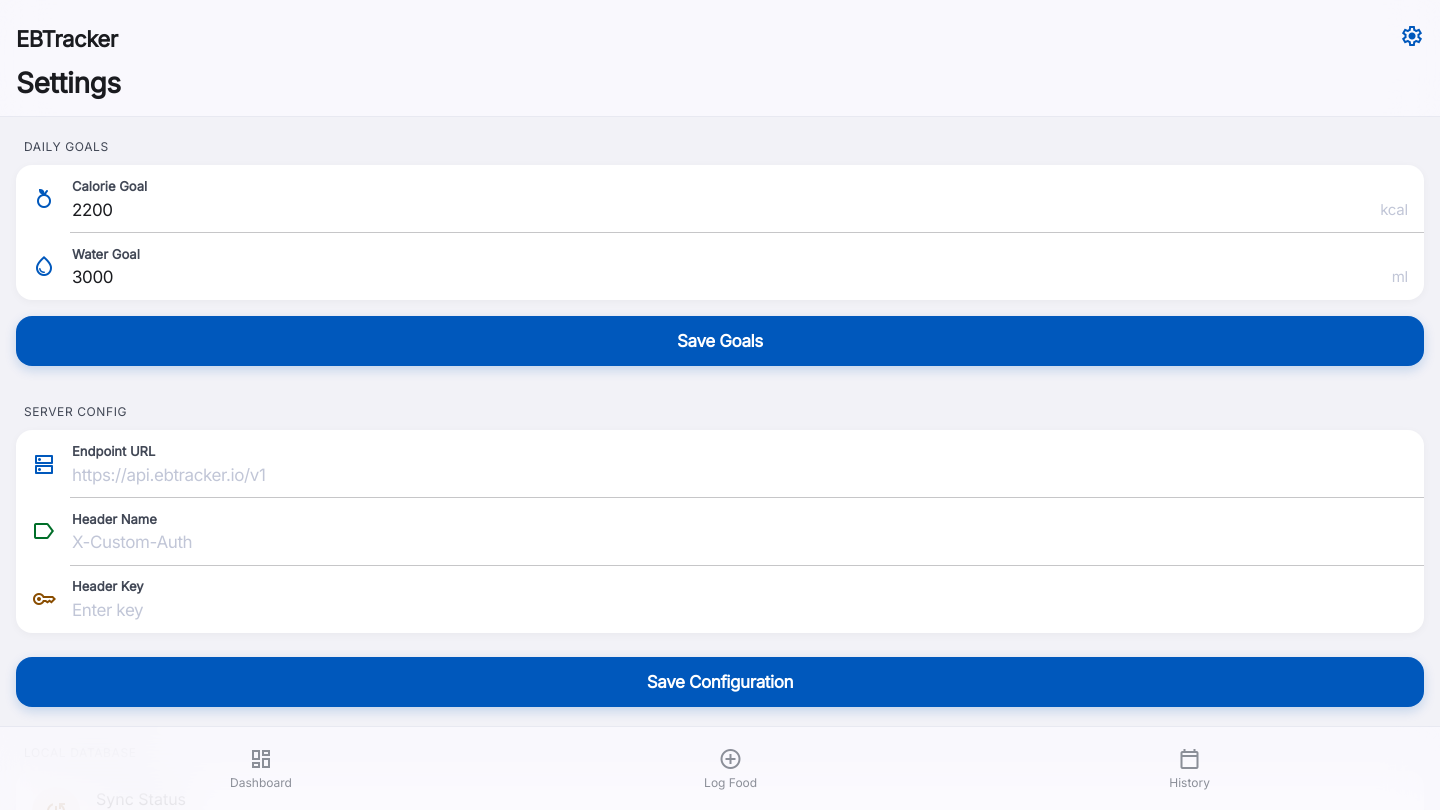
Test: Settings Component › allows updating server config inputs and saving them
The width and height of the screenshot is (1440, 810).
In the field labelled "Endpoint URL": (740, 474) [72,464,1408,486], type "https://test-api.io/v1"
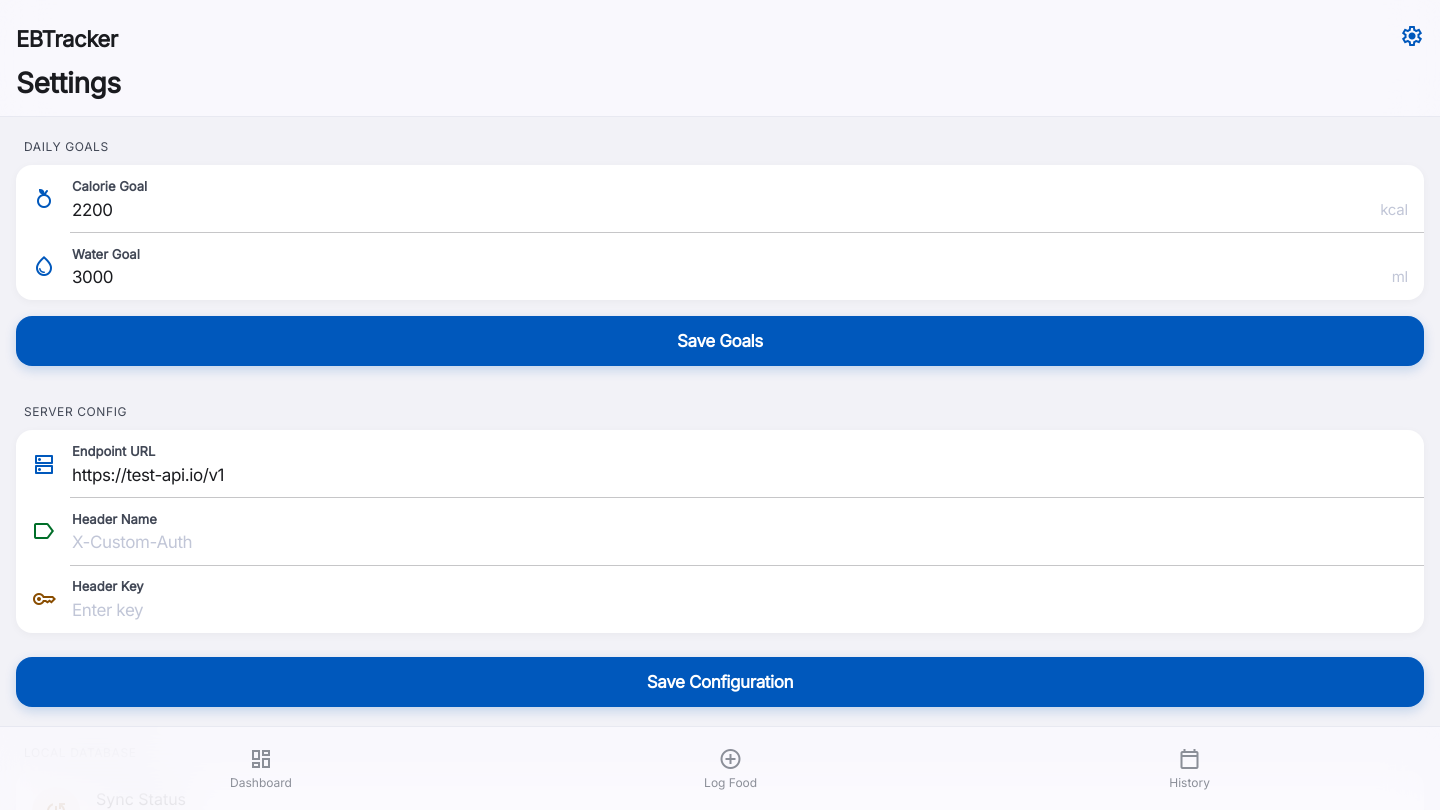
In the field labelled "Header Name": (740, 542) [72,531,1408,553], type "X-Auth-Token"
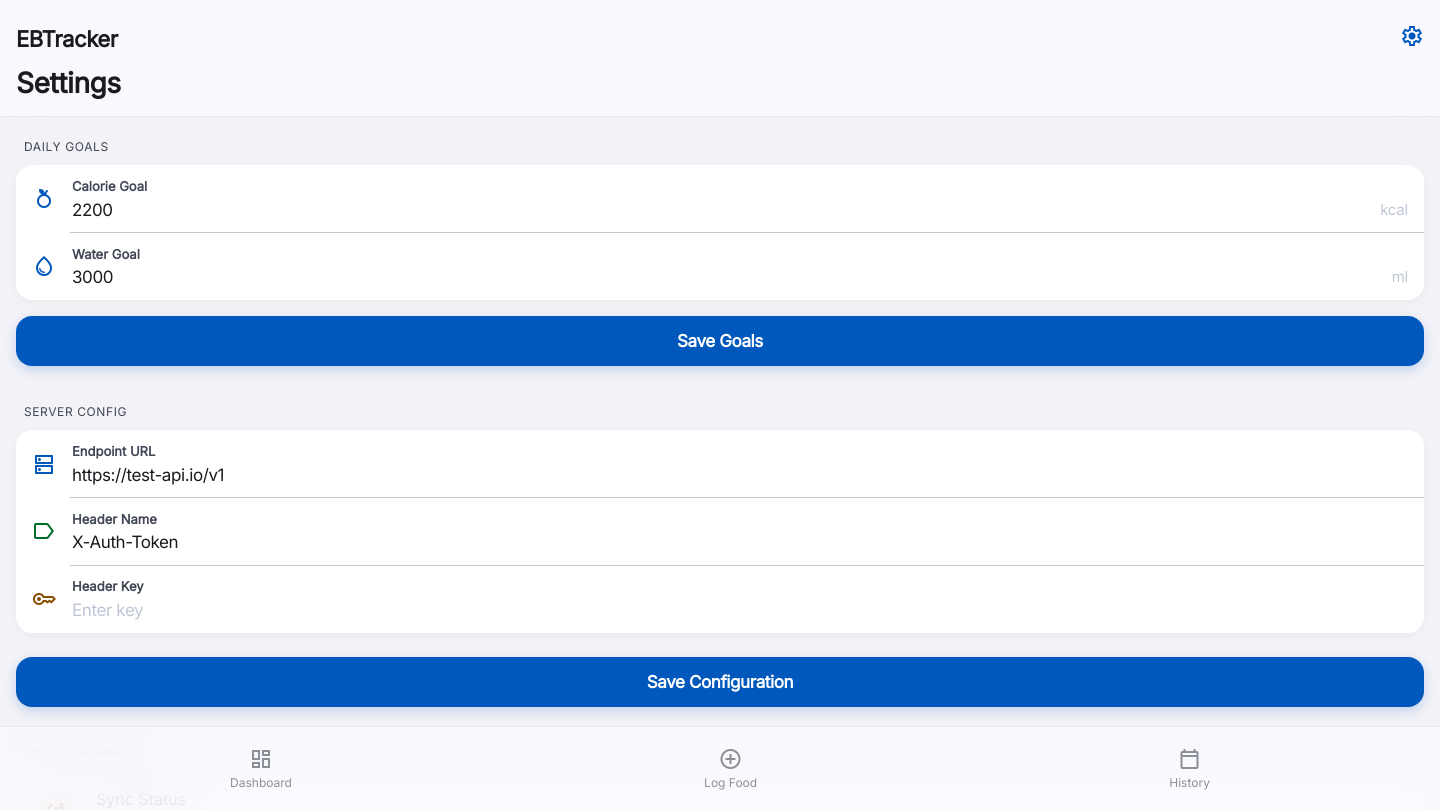
In the password field labelled "Header Key": (740, 610) [72,598,1408,620], type "secret123"
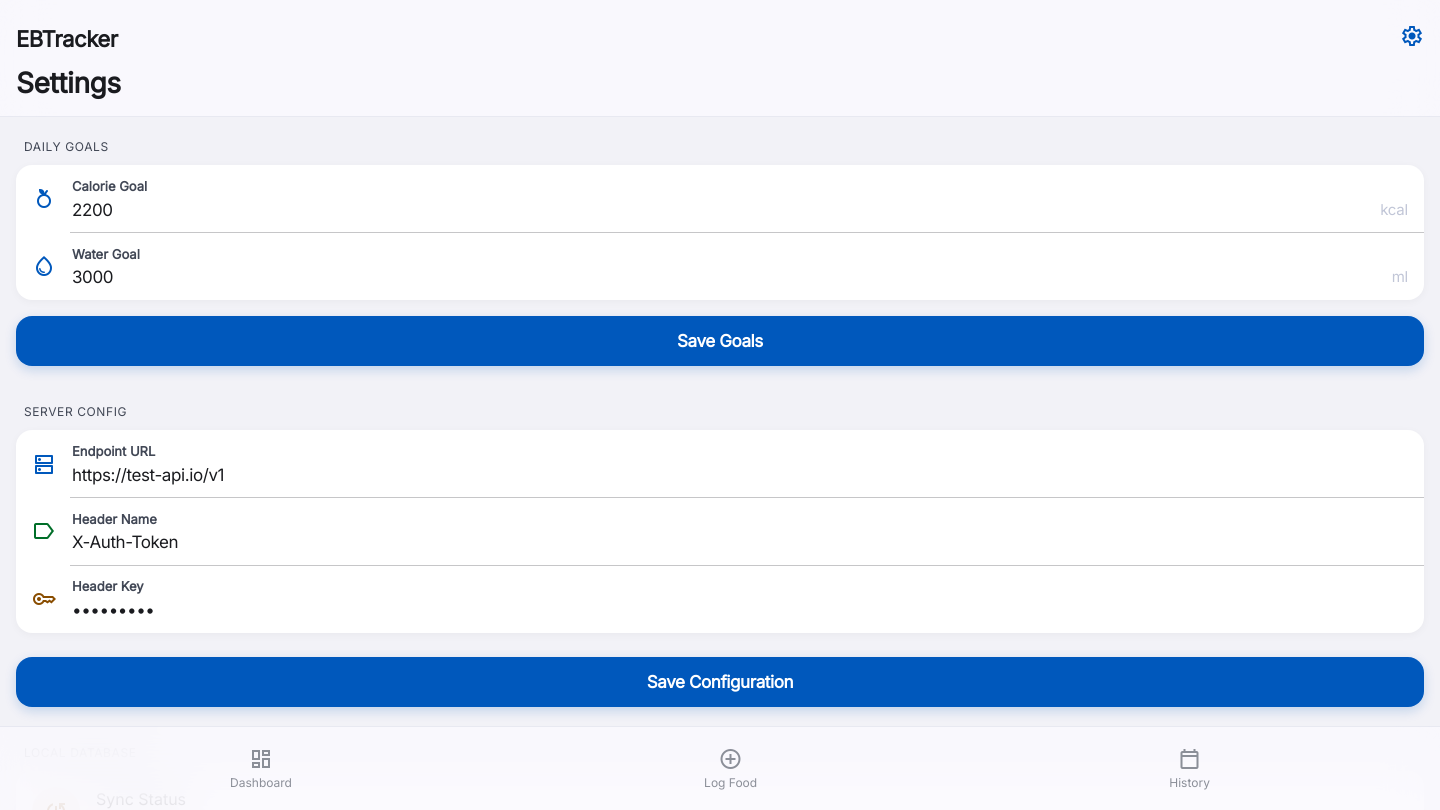
Click Save Configuration
Click the button "Save Configuration": (720, 682) [16,656,1424,706]
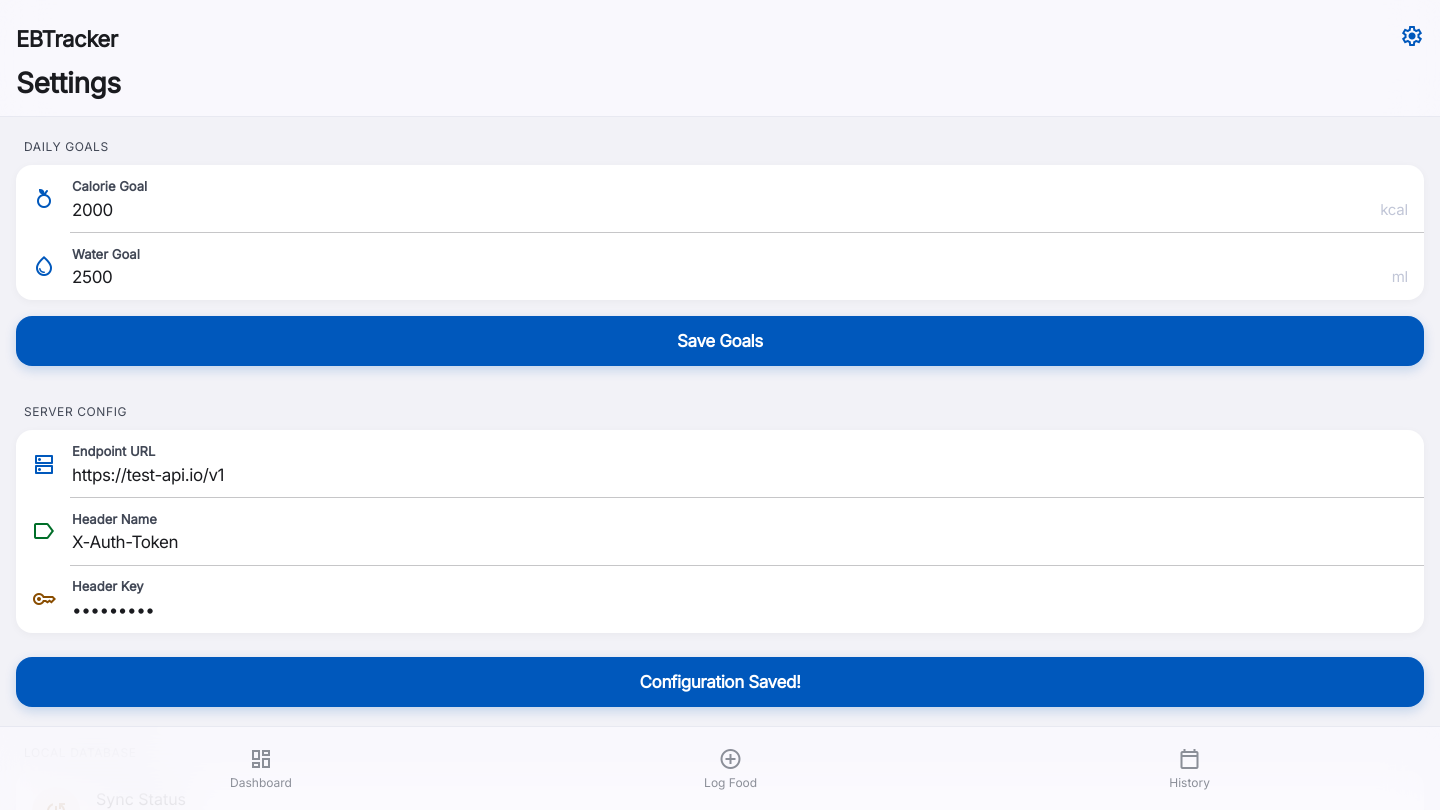
Expected: the button "Configuration Saved!" is shown, [16,656,1424,706]
